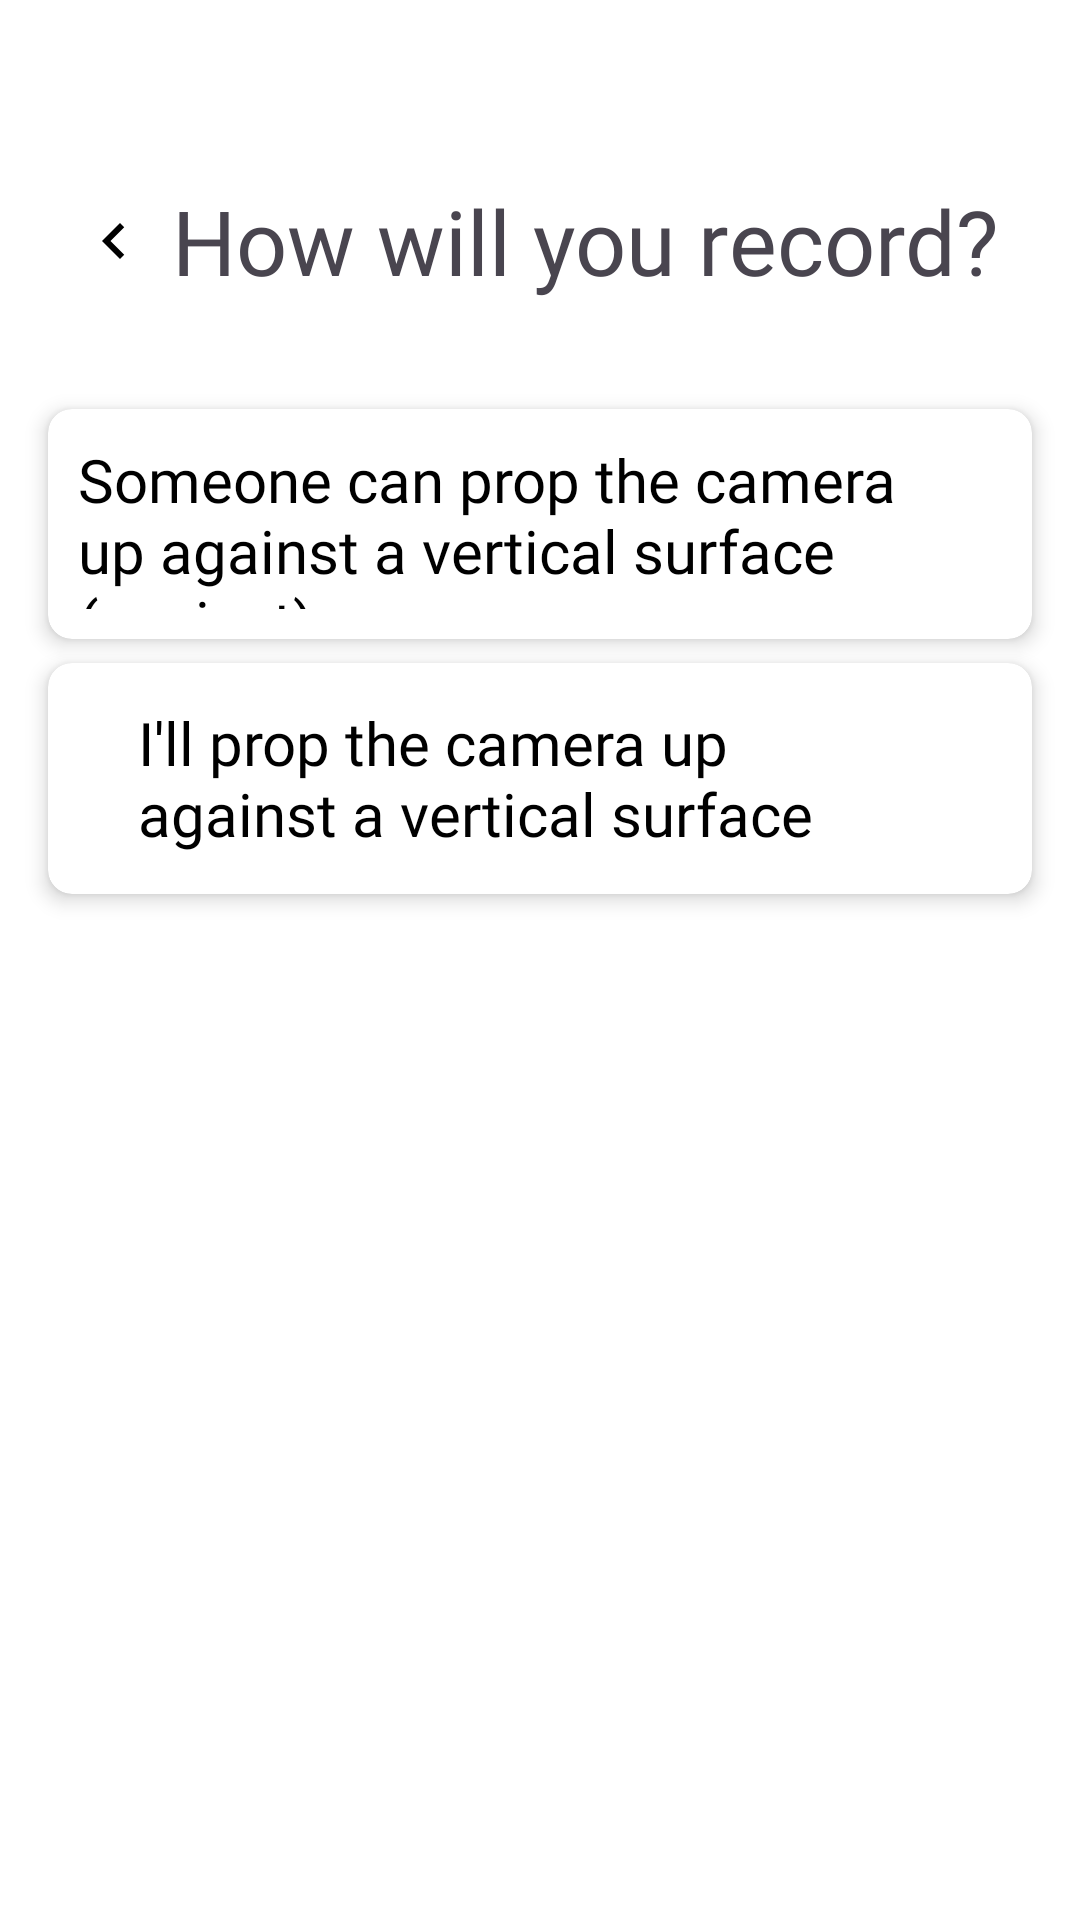

Icon click points for this 1080*1920 phone screenshot, format [x,y]:
chevron left: [113,241]
